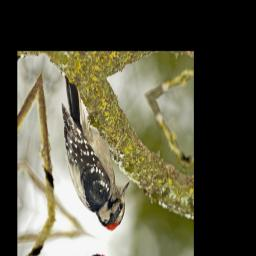Woodpecker: (35, 68, 144, 238)
